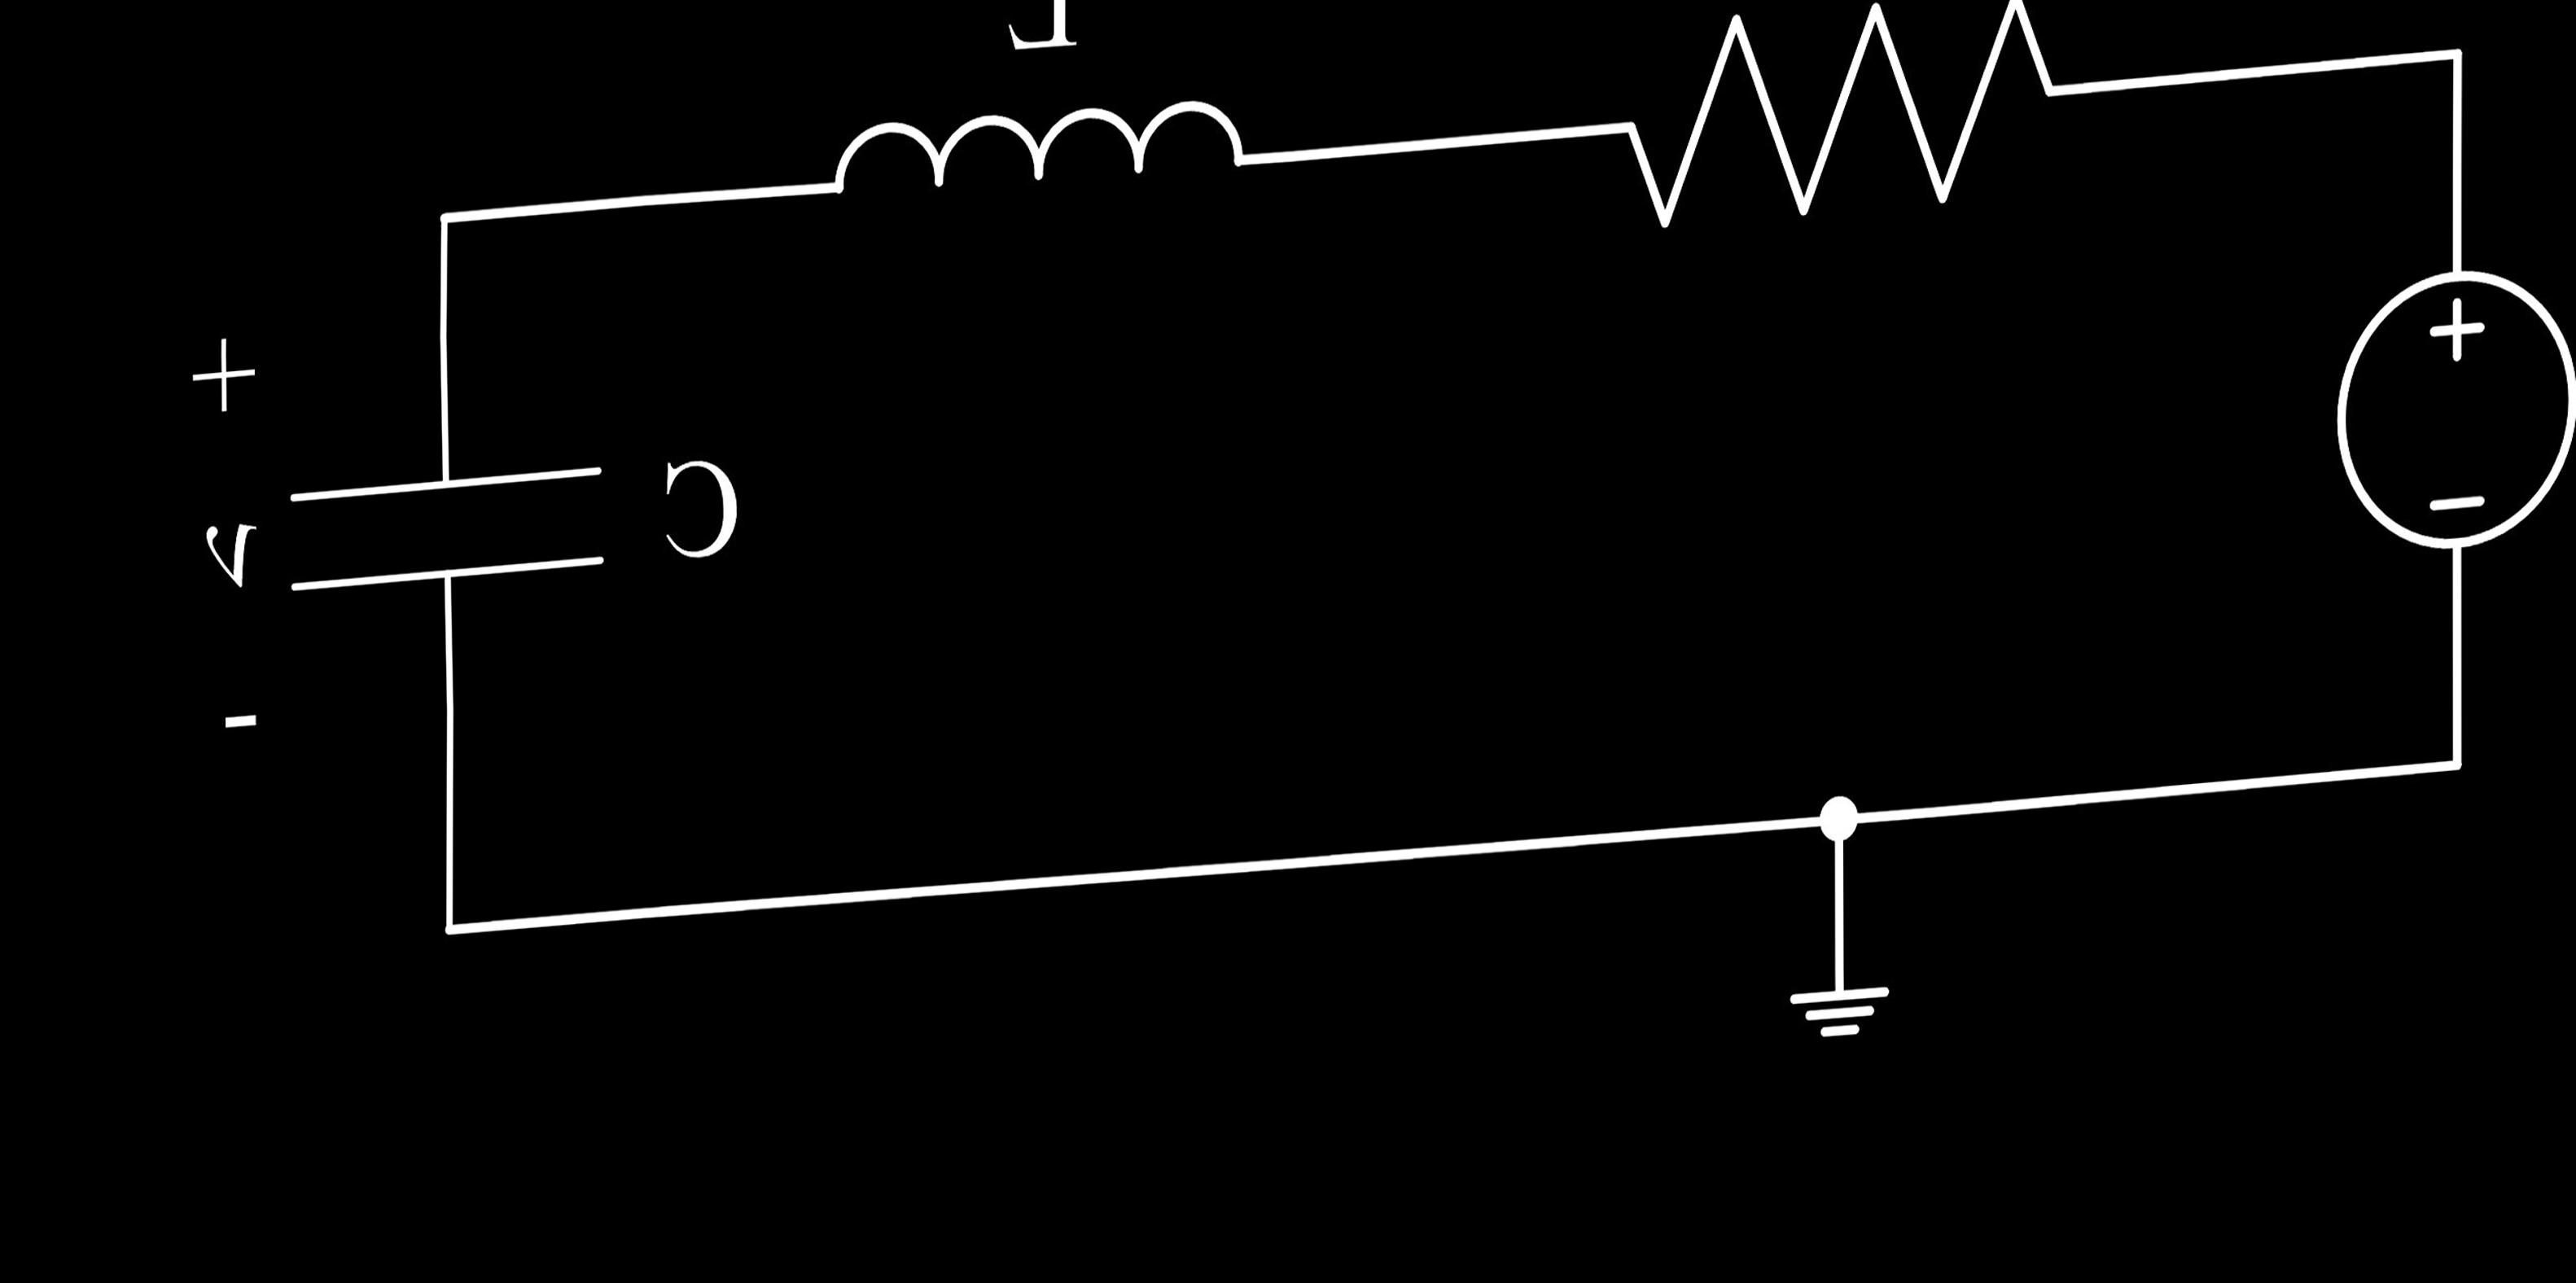Battery: (2269, 218, 2576, 603)
